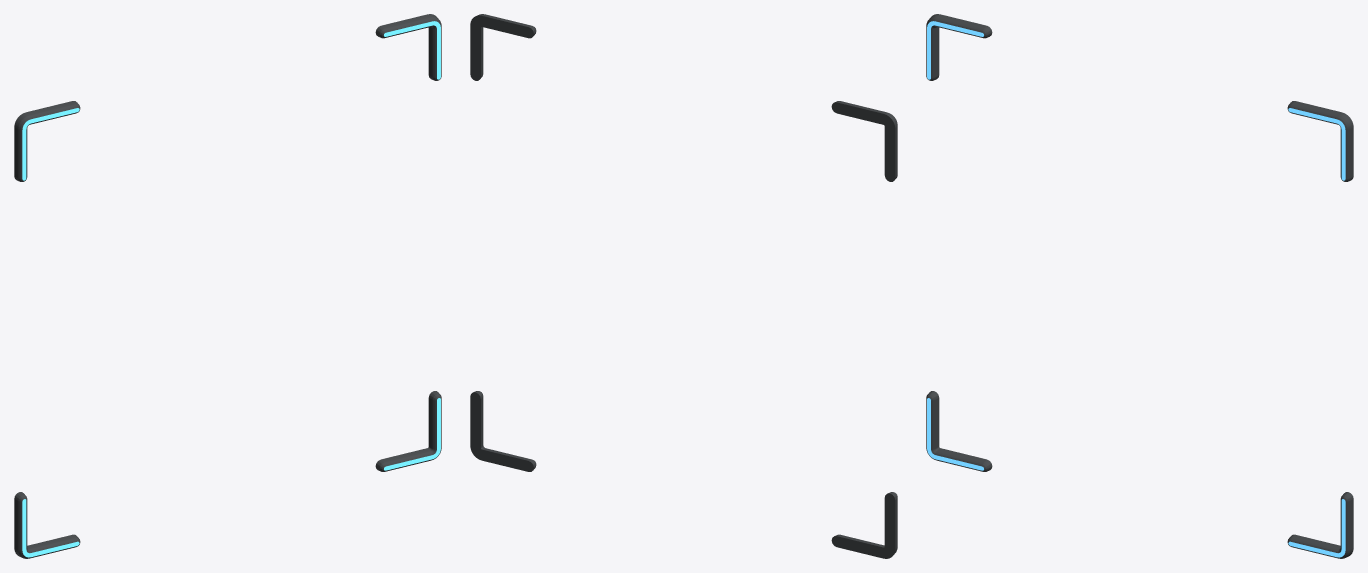
File: selection-corner-brackets-bfc6ad.glb
3 views of the same model, side by side, from view 1: azimuth 30°, elevation 25°; view 2: azimuth 150°, elevation 25°; view 3: azimuth 330°, elevation 25° (orthographic).
Parts seen in each view (by area): view 1: brackets, light-strips, bracket-tr; view 2: brackets, bracket-tr; view 3: brackets, light-strips, bracket-tr.
Part boxes in pixels (x1,y1,x2,y2): brackets: [14, 101, 441, 558]; light-strips: [22, 21, 440, 557]; bracket-tr: [375, 14, 441, 80]; brackets: [470, 101, 897, 558]; bracket-tr: [470, 14, 536, 80]; brackets: [926, 14, 1353, 558]; light-strips: [927, 21, 1345, 557]; bracket-tr: [1287, 101, 1353, 181].
Bounding box in the file's own units: 0.2 × 0.2 × 0.004.
